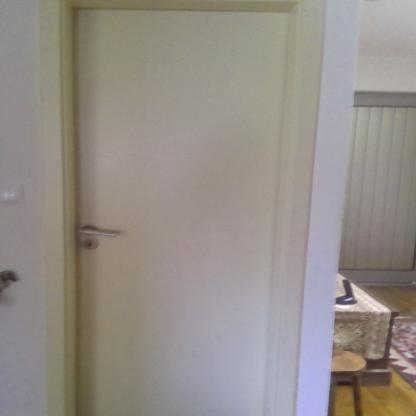door: (77, 8, 270, 416), (348, 90, 415, 285)
lever: (76, 223, 122, 239)
